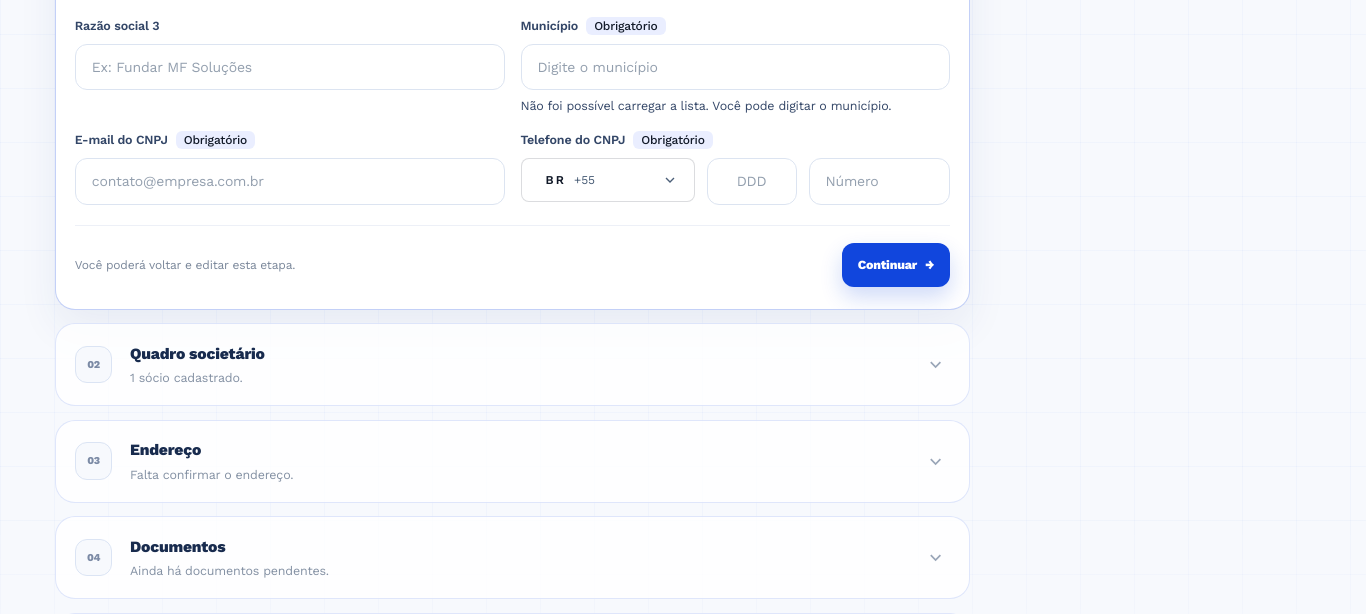
Scenario: ClientProcess submit flow › defaults an empty partner administrator choice to Não
(page scrolled)
Click the button "02 Quadro societário 1 sócio cadastrado." at (94, 365), box [56,324,969,405]
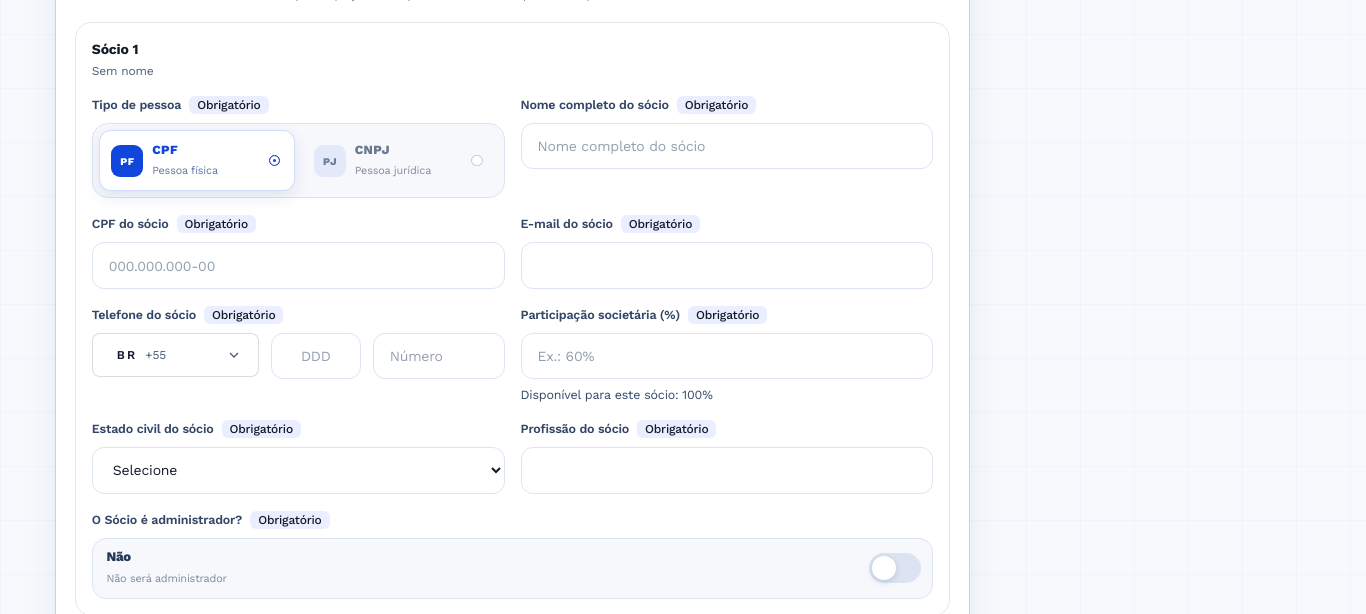
Expected: the text "Não será administrador" is shown, [106,569,227,589]
